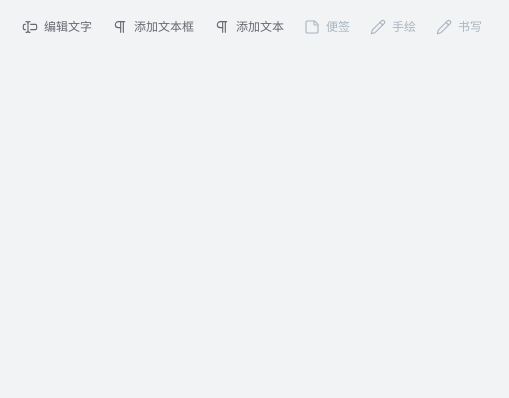
it: PageTextLayer text boxes › selects an existing Text Object when clicking it in Text Box mode
The width and height of the screenshot is (509, 398).
Expected: the element named "文本层" is shown, x1=12 y1=12 x2=492 y2=42
Click the button "添加文本框" at [153, 27], box x1=102 y1=12 x2=204 y2=42
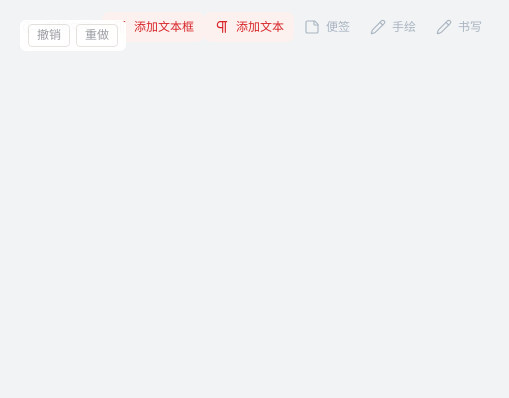
Press the mouse on the element named "文本层" at [252, 31], box x1=12 y1=12 x2=492 y2=51
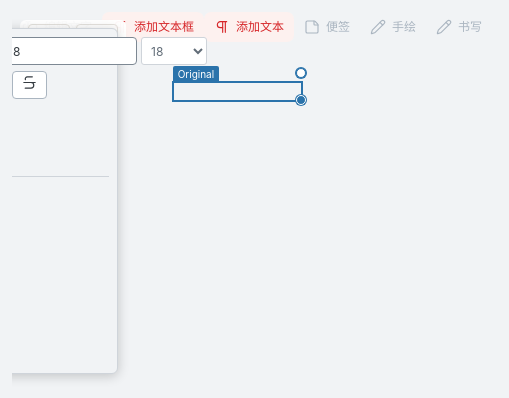
Expected: the element named "文本框 1" is shown, x1=173 y1=82 x2=302 y2=101
